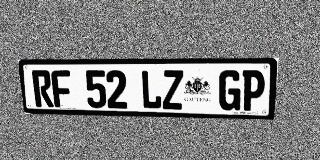2: (106, 70, 127, 108)
5: (85, 70, 107, 108)
F: (51, 70, 73, 107)
G: (218, 70, 242, 111)
L: (141, 70, 162, 109)
P: (241, 70, 266, 111)
R: (31, 70, 54, 107)
Z: (162, 70, 183, 110)
